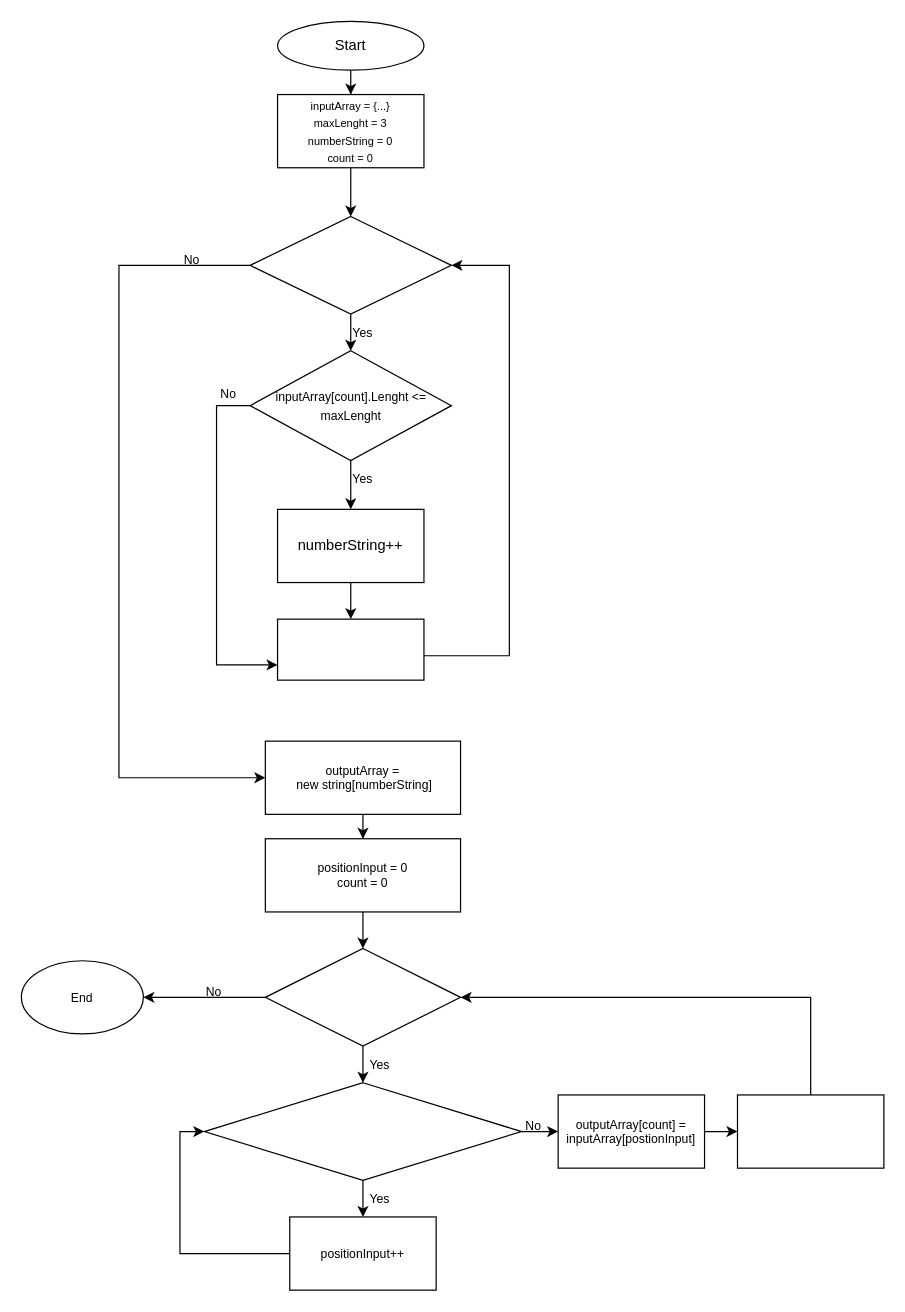
Image size: 905x1312. Some labels were removed from this diagram. Each missing label, with the box of its shape:
count < inputArray.Lenght: (249, 215, 451, 314)
count < numberString: (264, 947, 461, 1046)
count++: (276, 618, 424, 680)
count++ positionInput++: (736, 1094, 884, 1168)
inputArray[positionInput].Lenght > maxLenght: (203, 1082, 522, 1180)
